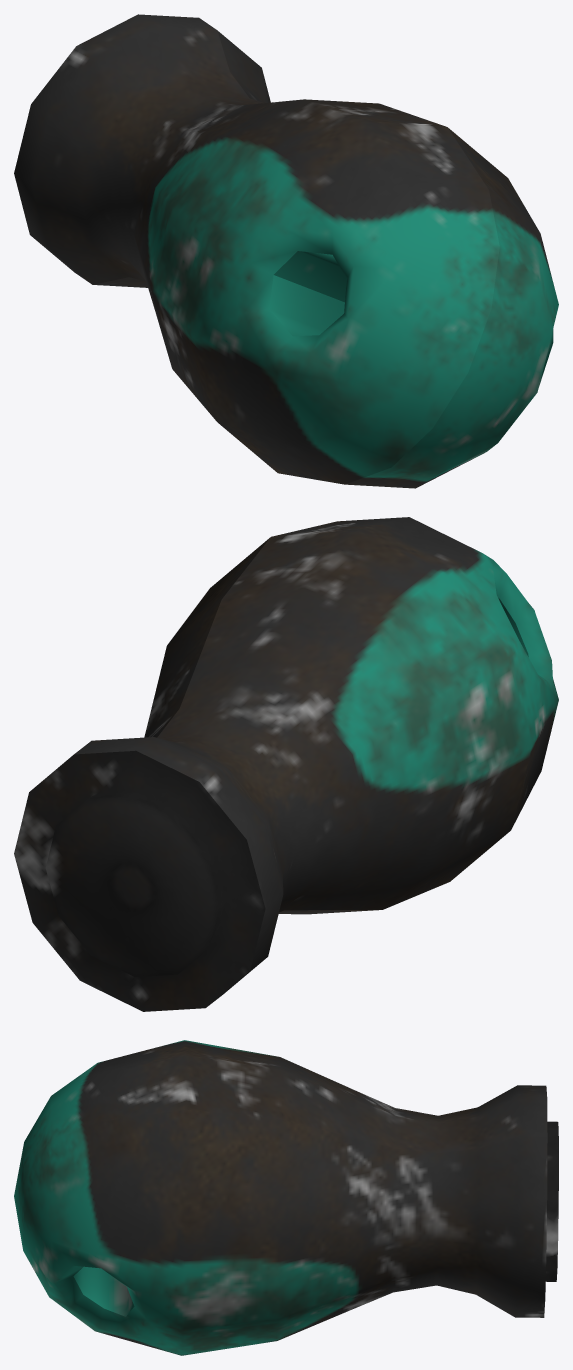
Rendered from Screwdriver_S_Handle_low_1.obj.
3 views of the same model, one above another, from view 1: azimuth 30°, elevation 25°; view 2: azimuth 150°, elevation 25°; view 3: azimuth 270°, elevation 25° (orthographic). The views are drawn at different scales.
Bounding box in the file's own units: 0.0343 × 0.0343 × 0.0591.
1 material, 1 textured.
